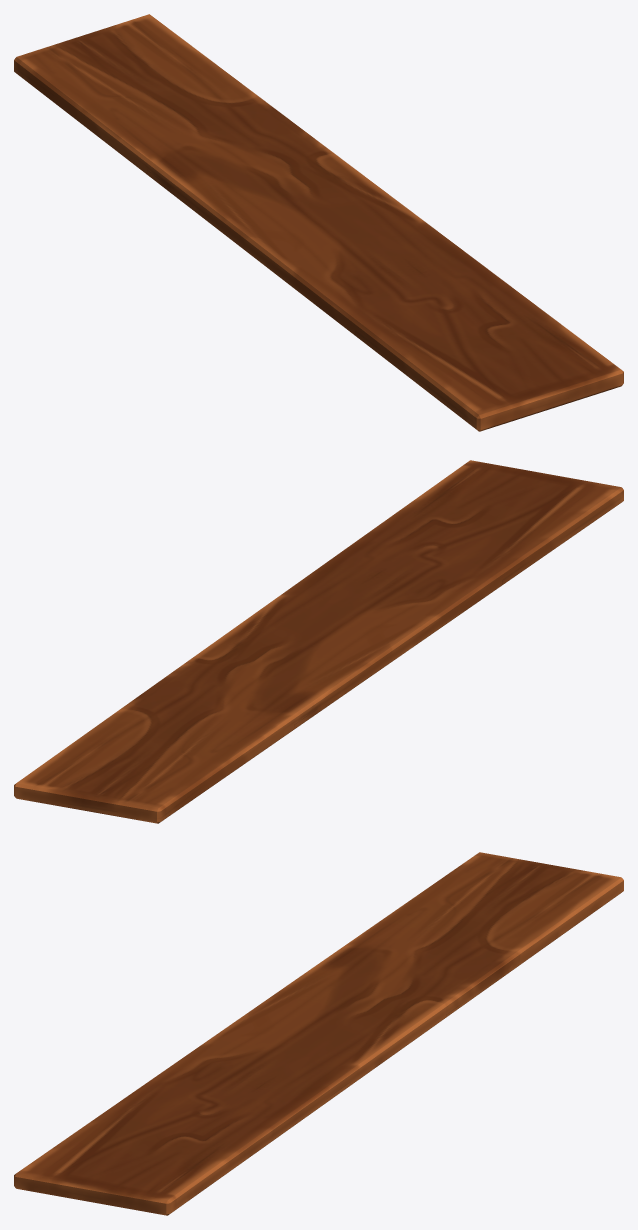
File: Tabla4.fbx
3 views of the same model, one above another, from view 1: azimuth 30°, elevation 25°; view 2: azimuth 150°, elevation 25°; view 3: azimuth 330°, elevation 25° (orthographic). The views are drawn at different scales.
Parts seen in each view (by area): view 1: 4_Tabla_Original; view 2: 4_Tabla_Original; view 3: 4_Tabla_Original.
Part boxes in pixels (left/top/right/bottom): 4_Tabla_Original: left=14, top=14, right=623, bottom=431; 4_Tabla_Original: left=14, top=460, right=623, bottom=823; 4_Tabla_Original: left=14, top=852, right=623, bottom=1215.
Bounding box in the file's own units: 42.11 × 4 × 215.
